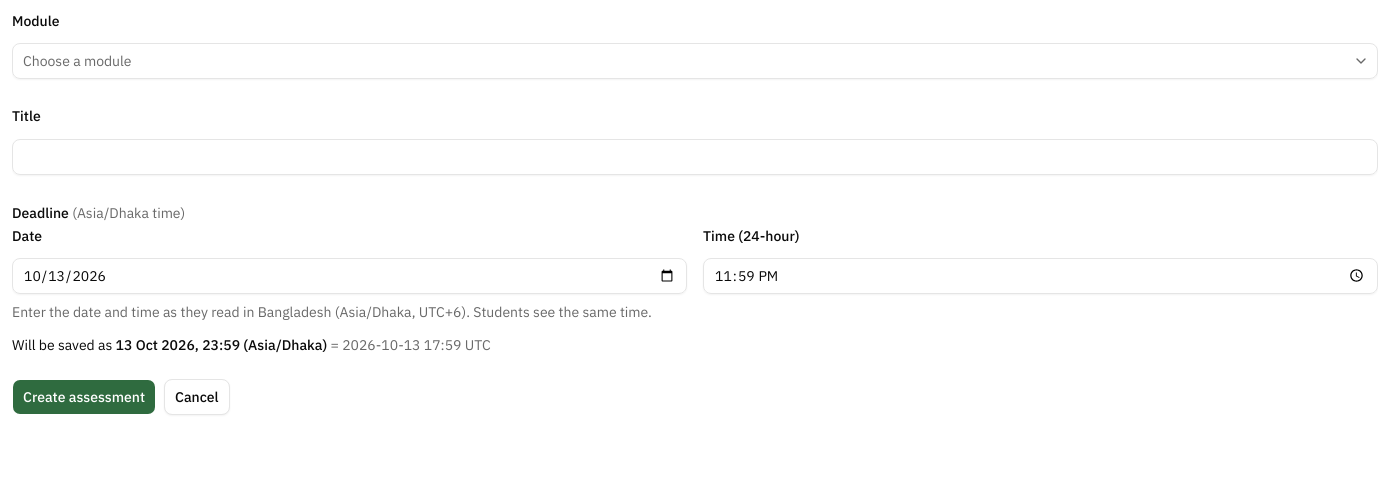
new assessment form › shows what is missing and sends nothing
Click the button "Create assessment" at (84, 397), box [12, 379, 156, 415]
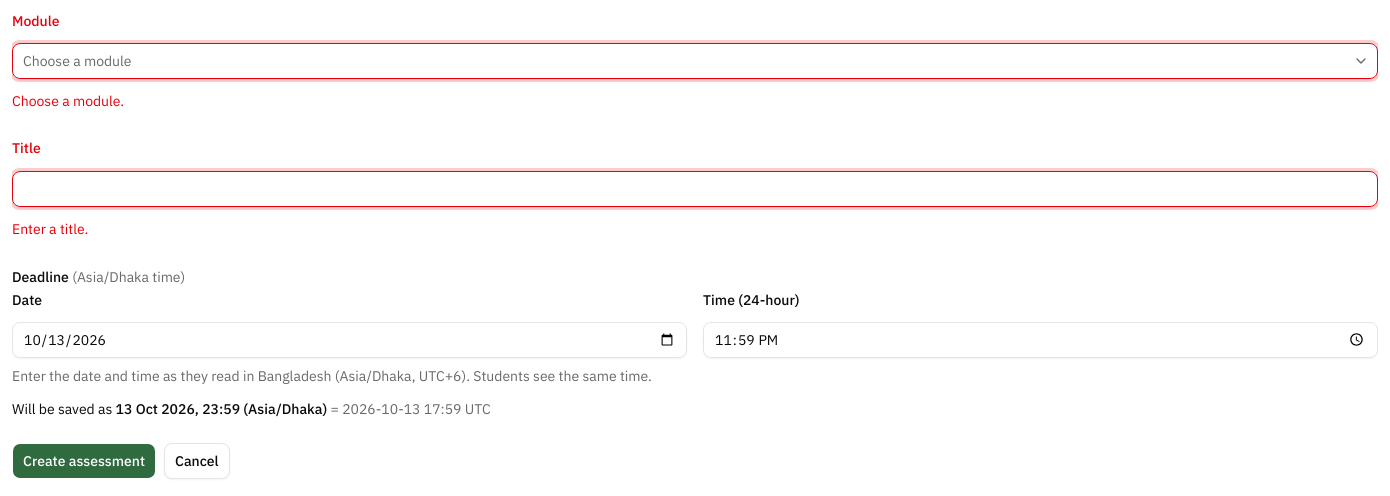
expect the text "Choose a module." is shown: met, box [12, 92, 124, 110]
expect the text "Enter a title." is shown: met, box [12, 220, 88, 238]
